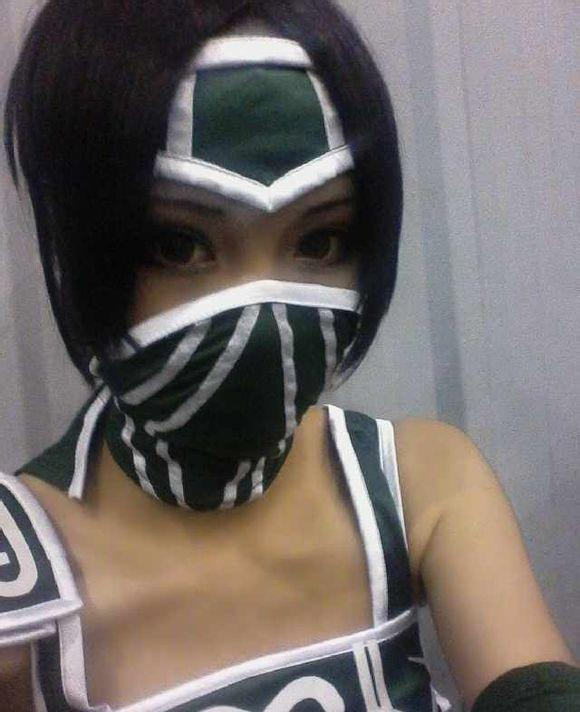OK: (94, 170, 369, 445)
